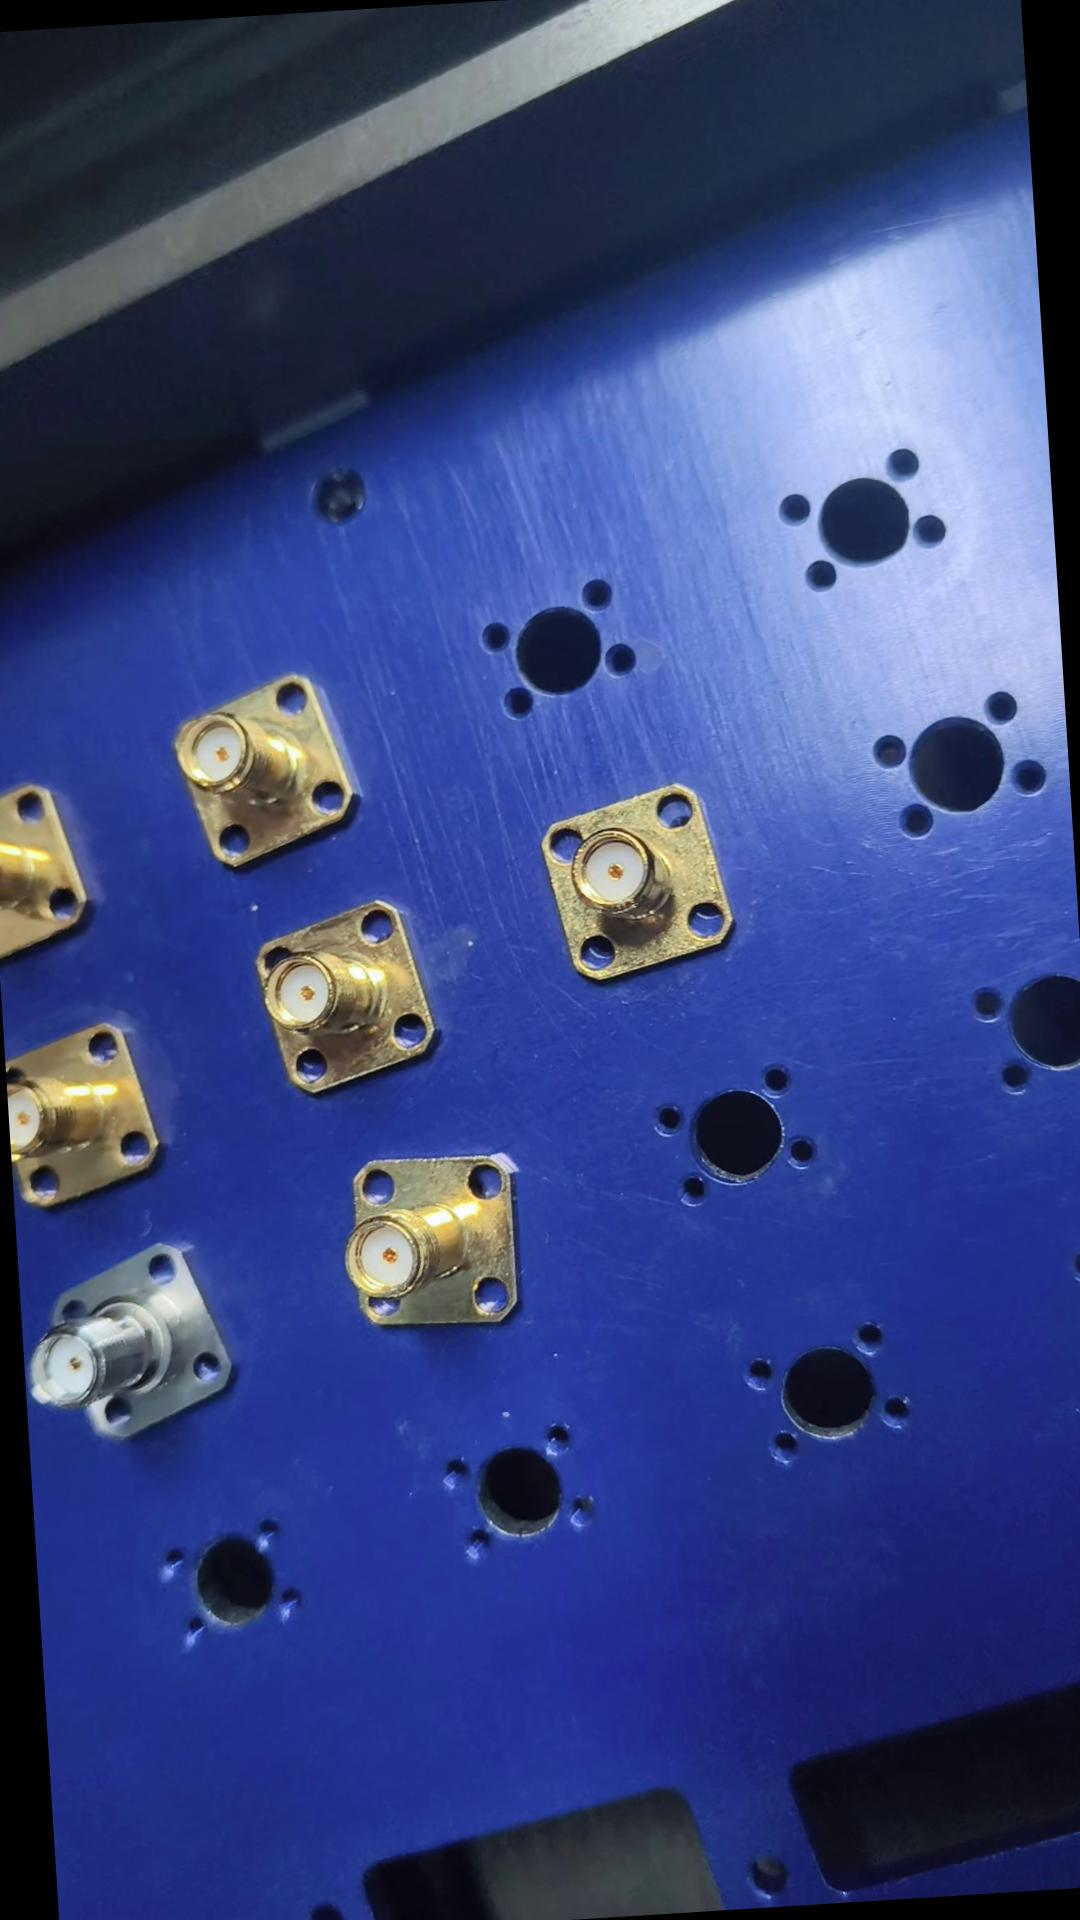SMA: (25, 1232, 244, 1451), (178, 665, 371, 887), (542, 775, 738, 986), (256, 884, 442, 1101), (344, 1145, 537, 1336), (4, 1015, 173, 1209)
